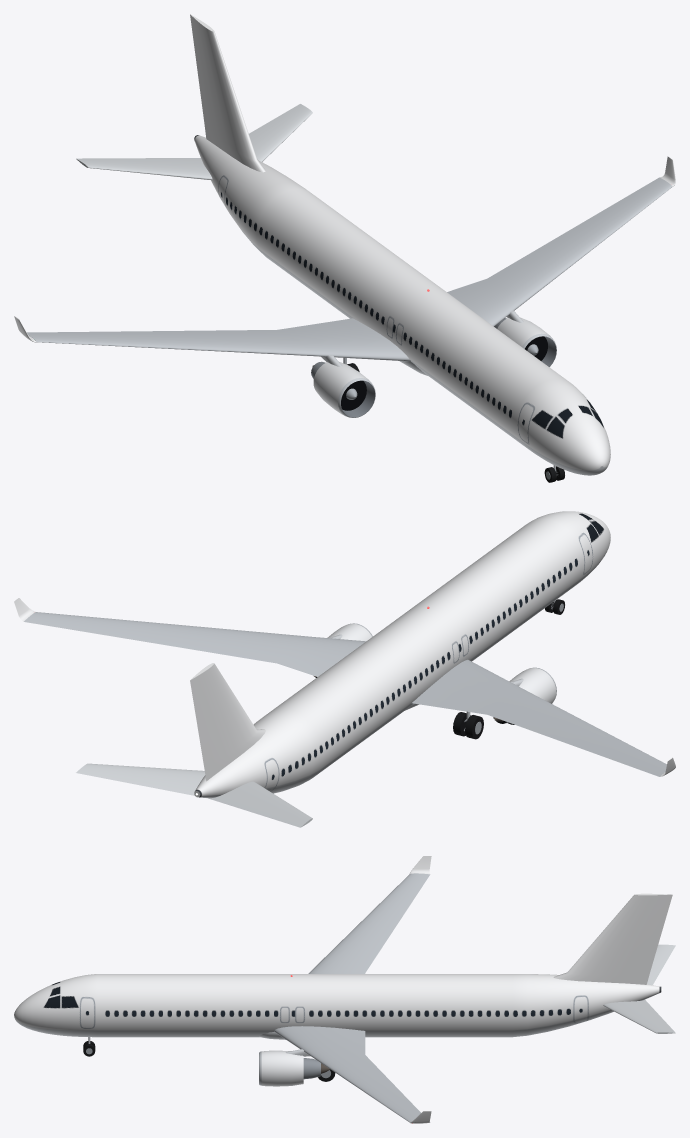
File: bcs3.glb
The picture shows the model from 3 angles, top to bottom: view 1: azimuth 30°, elevation 25°; view 2: azimuth 150°, elevation 25°; view 3: azimuth 270°, elevation 25°; orthographic projection. The views are drawn at different scales.
Visible parts, largest first — view 1: body; view 2: body, gear; view 3: body.
Boxes of the visible parts, bbox=[...] form: body: bbox=[14, 14, 675, 475]; body: bbox=[14, 511, 675, 827]; gear: bbox=[453, 599, 564, 739]; body: bbox=[14, 856, 675, 1123].
Bounding box in the file's own units: 36.12 × 10.52 × 39.57.
Materials: 19 (1 with a texture image).
